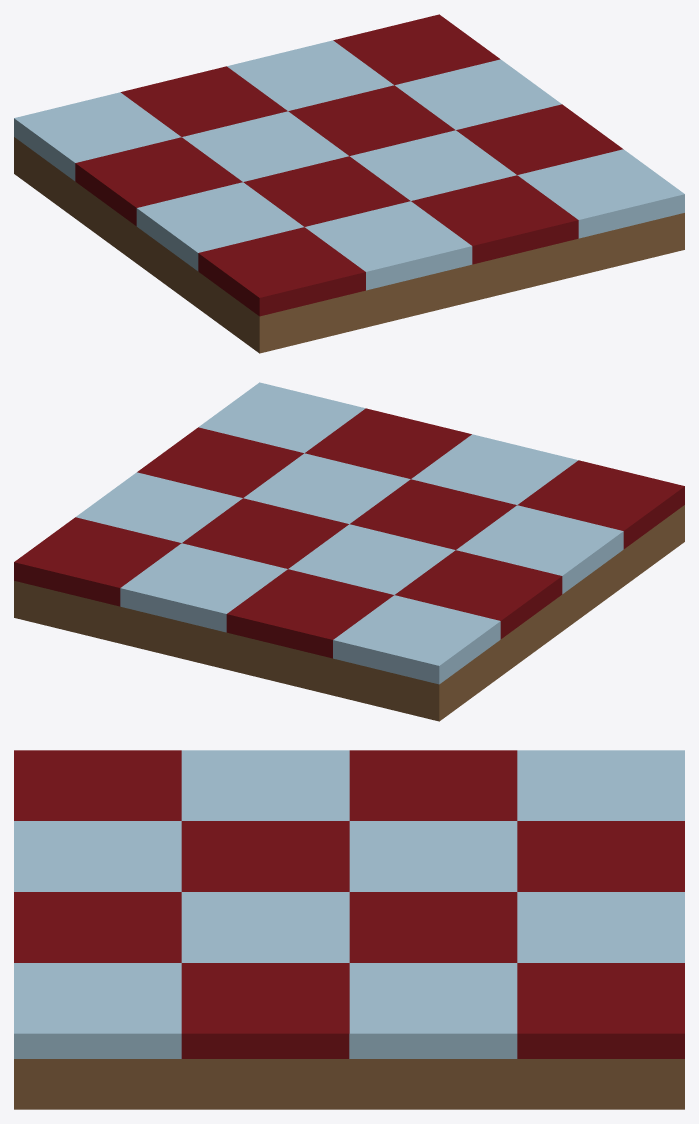
The model's file is floor-kitchen.glb.
3 views of the same model, one above another, from view 1: azimuth 30°, elevation 25°; view 2: azimuth 150°, elevation 25°; view 3: azimuth 270°, elevation 25° (orthographic). The views are drawn at different scales.
Parts seen in each view (by area): view 1: Floor_Kitchen1; view 2: Floor_Kitchen1; view 3: Floor_Kitchen1.
Boxes of the visible parts, box(x1,y1,x2,y2) form: Floor_Kitchen1: box(14, 14, 684, 353); Floor_Kitchen1: box(14, 382, 684, 721); Floor_Kitchen1: box(14, 750, 684, 1109).
Size of the model in its own units: 4 by 0.5 by 4.
